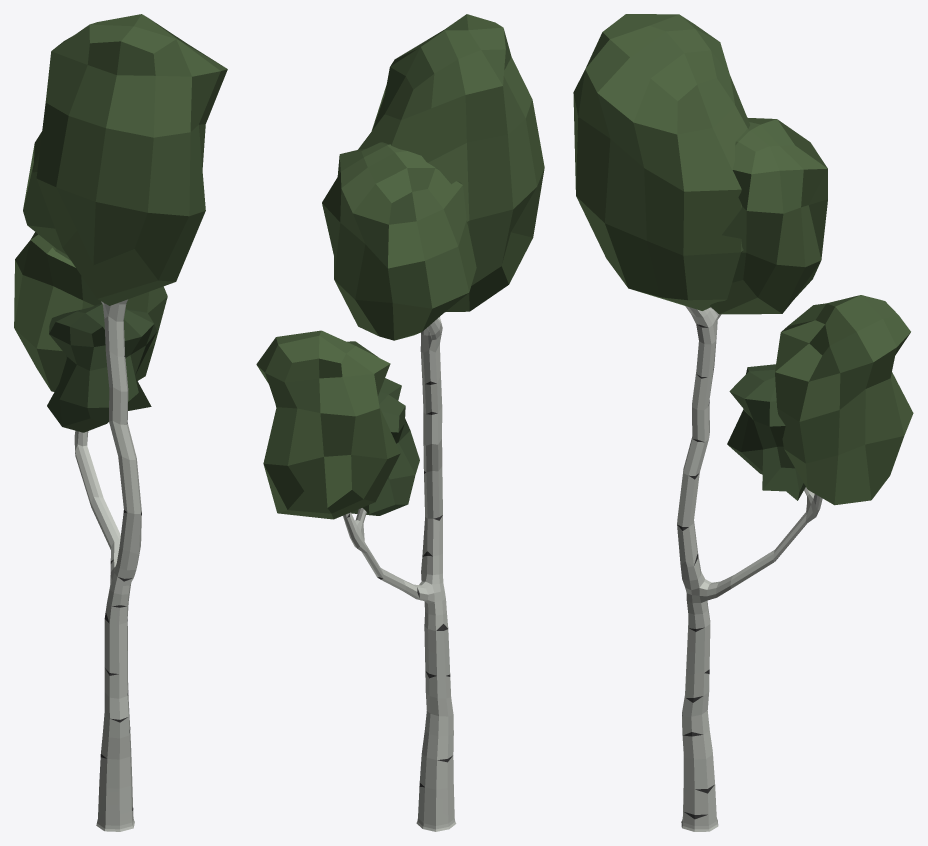
The model's file is BirchTree_5.glb.
3 renders of one model, left to right at view 1: azimuth 30°, elevation 25°; view 2: azimuth 150°, elevation 25°; view 3: azimuth 270°, elevation 25°, orthographic. The views are drawn at different scales.
Visible parts, largest first — view 1: Green, White, DarkGreen; view 2: Green, White, DarkGreen; view 3: Green, White, DarkGreen.
Part boxes in pixels (left/top/right/bottom): Green: left=14, top=14, right=227, bottom=391; White: left=74, top=299, right=141, bottom=831; DarkGreen: left=47, top=303, right=157, bottom=432; Green: left=256, top=14, right=544, bottom=519; White: left=343, top=317, right=456, bottom=831; DarkGreen: left=351, top=378, right=419, bottom=515; Green: left=573, top=14, right=913, bottom=505; White: left=677, top=306, right=822, bottom=831; DarkGreen: left=727, top=364, right=805, bottom=500.
Bounding box in the file's own units: 1.19 × 5.01 × 1.93.
